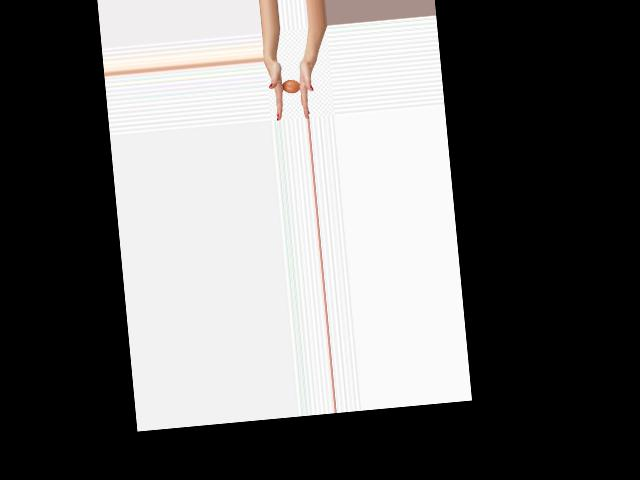egg: (282, 78, 300, 93)
